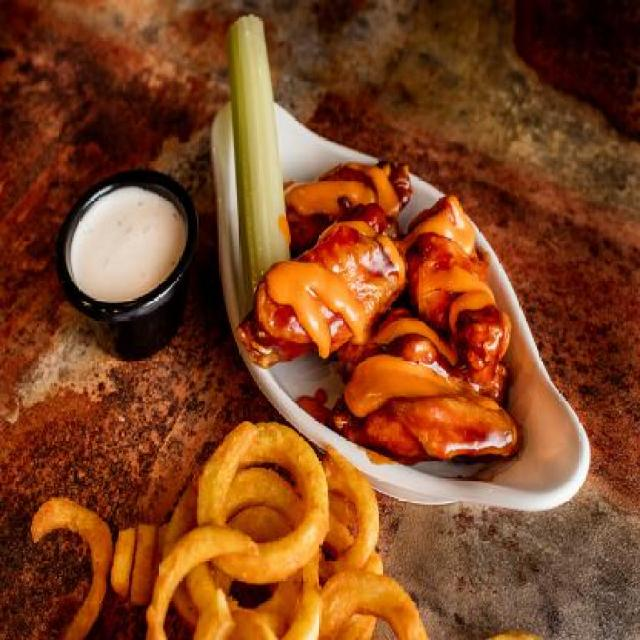chicken wings: (226, 148, 537, 460)
onion rings: (22, 421, 428, 639)
